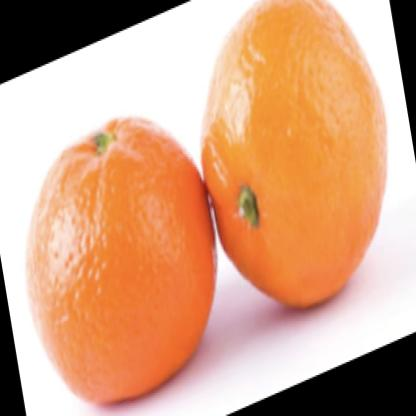fresh: (30, 1, 389, 407)
